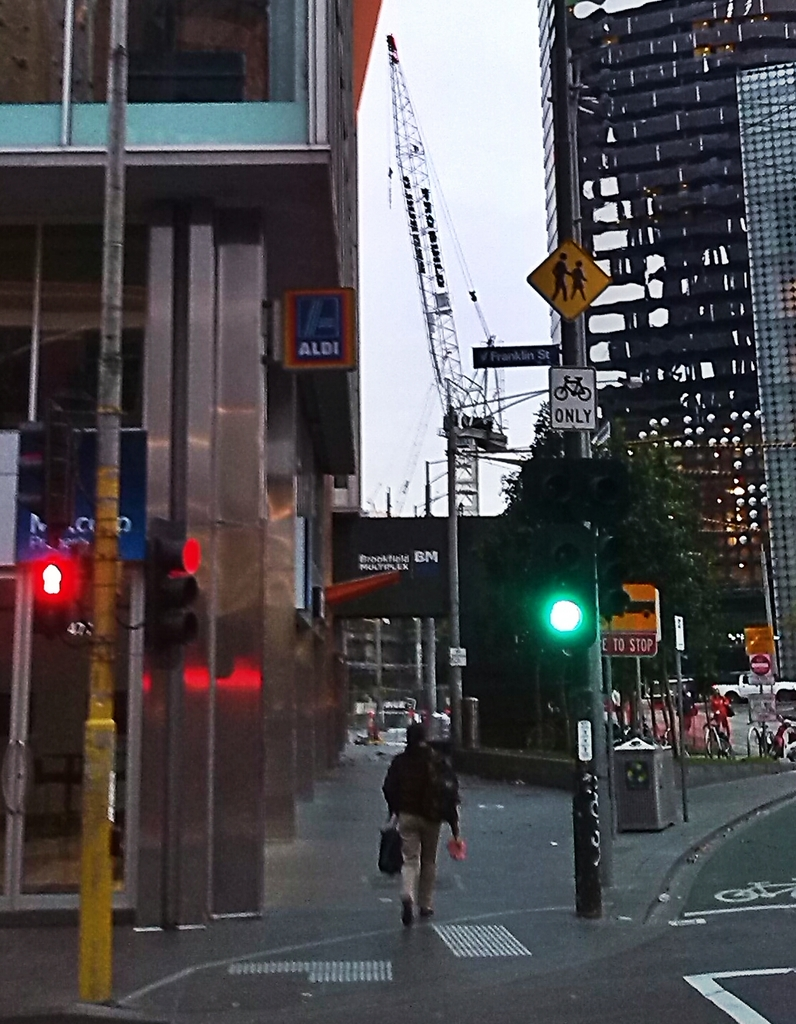green_light: (533, 468, 594, 650)
